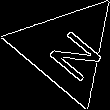N_NW: (32, 17, 100, 81)
